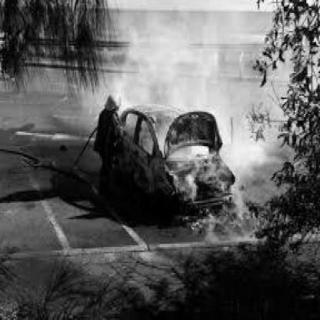other: (106, 88, 126, 112)
